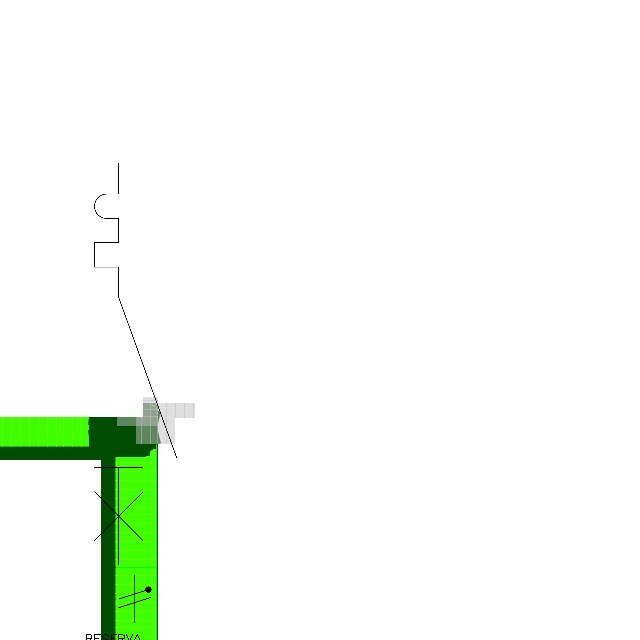interruptor_termomagnetico: (84, 153, 187, 575)
